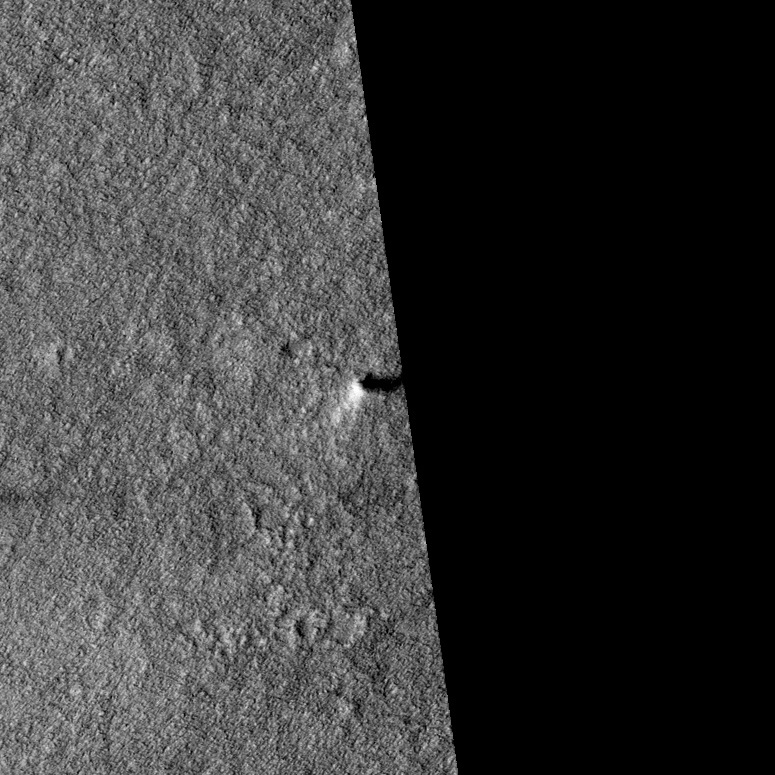dust_devil: (343, 369, 404, 411)
